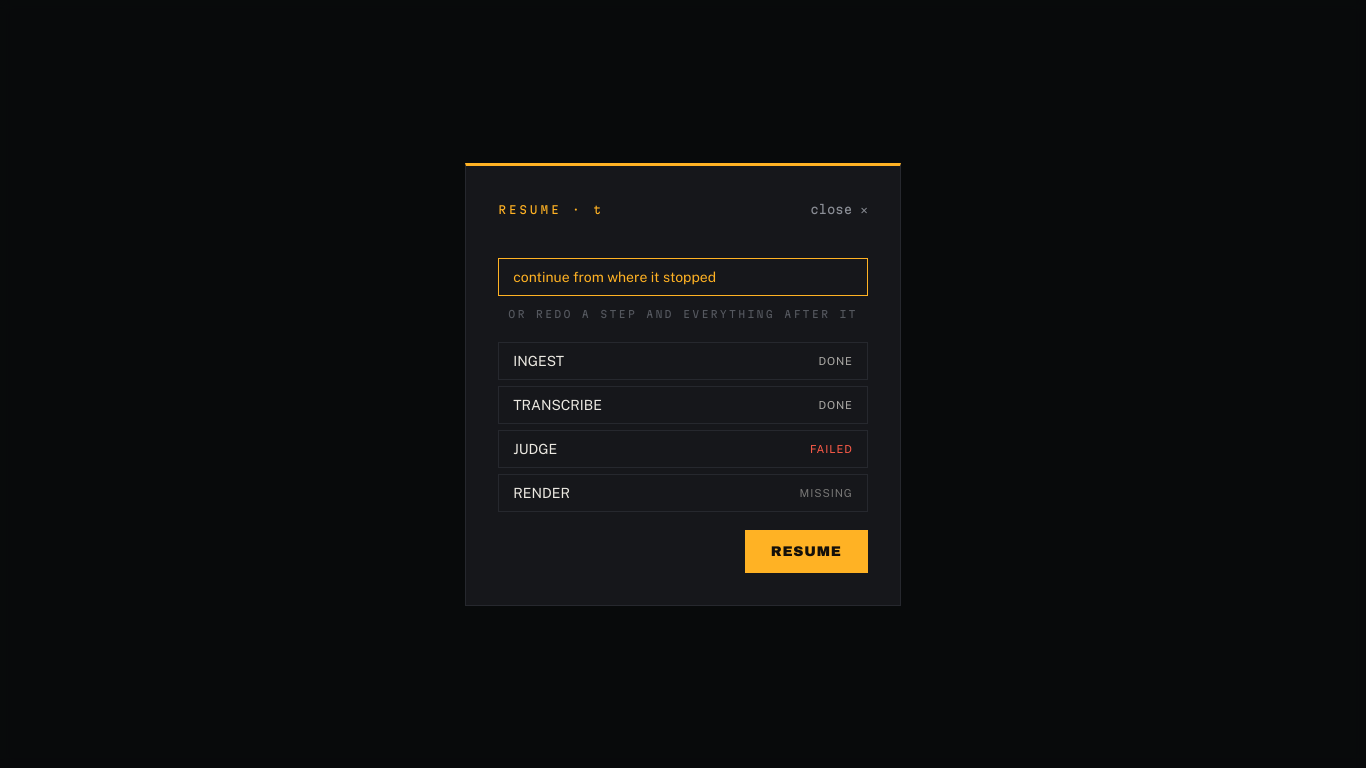
Scenario: ResumePicker (E14-F02) › shows the measured cost for a chosen stage, in minutes
This screenshot has width=1366, height=768.
Step 1. Click the text "TRANSCRIBE" → [558, 404], box [513,396,602,412]
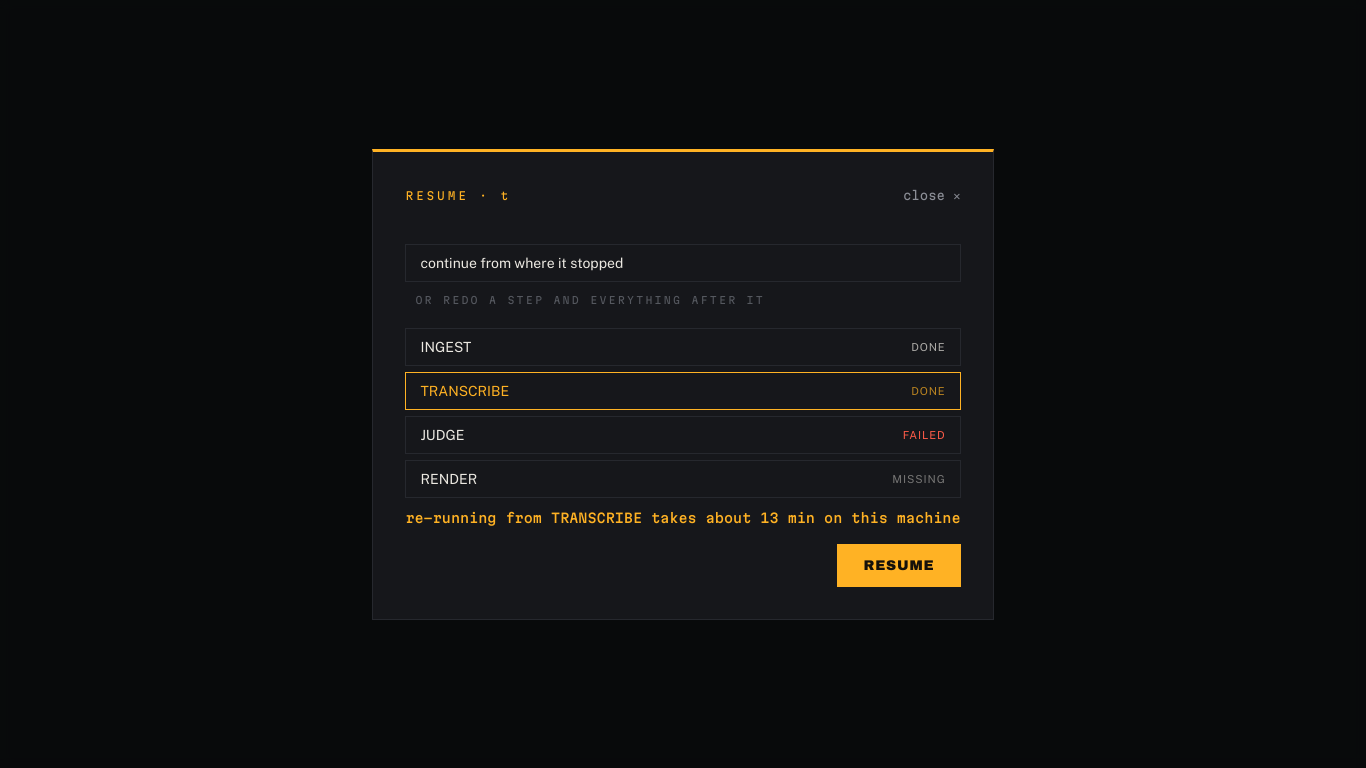
Expected: the text "re-running from TRANSCRIBE takes about 13 min" is shown, [405,510,961,526]
